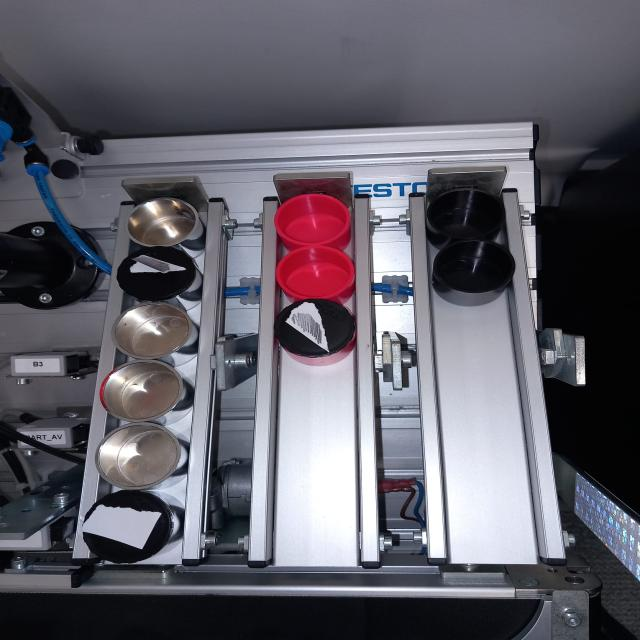NoLid: (92, 424, 190, 490), (98, 361, 192, 423), (107, 301, 203, 360), (434, 241, 517, 306), (271, 188, 359, 247), (279, 250, 366, 300), (124, 198, 206, 251), (430, 190, 504, 242)
